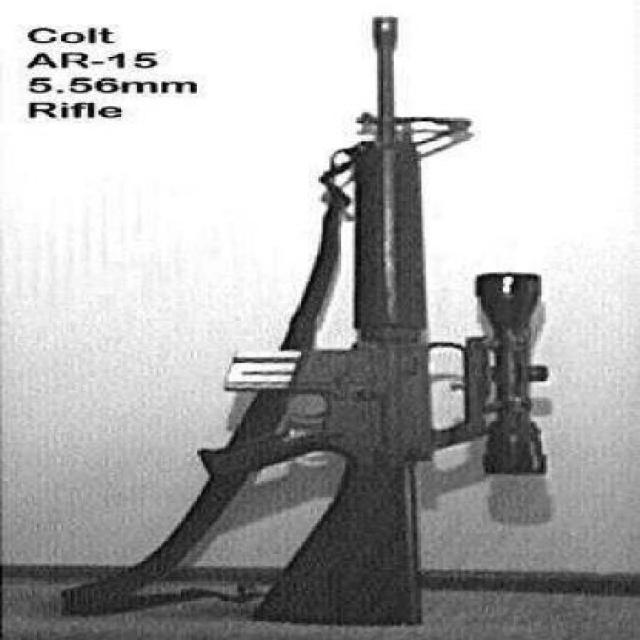weapon: (284, 16, 554, 627)
